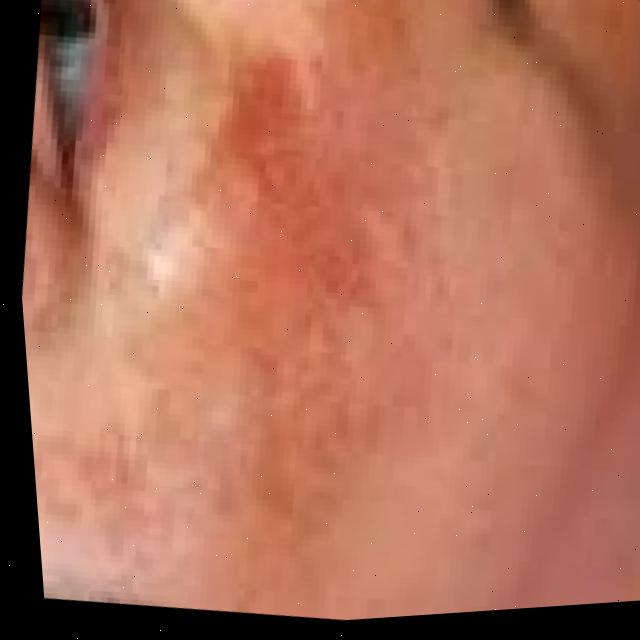Melasma: (110, 0, 466, 472)
